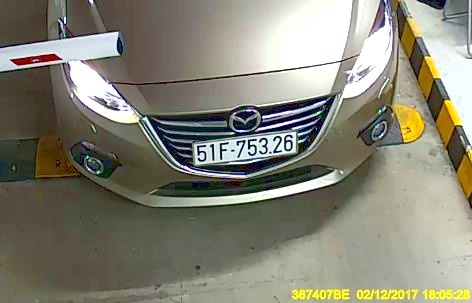plate: (194, 132, 295, 163)
